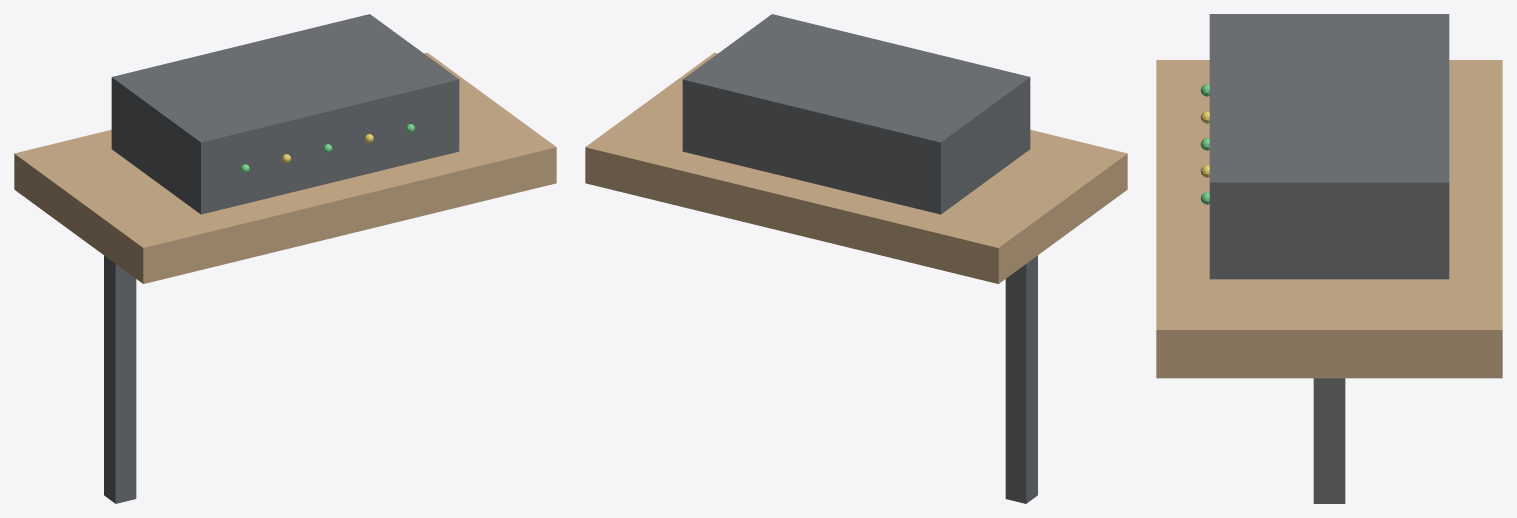
File: server_bench_02.glb
3 renders of one model, left to right at view 1: azimuth 30°, elevation 25°; view 2: azimuth 150°, elevation 25°; view 3: azimuth 270°, elevation 25°, orthographic. The views are drawn at different scales.
Parts seen in each view (by area): view 1: server, bench, leg-0.48; view 2: server, bench, leg-0.48; view 3: server, bench, leg-0.48.
Part boxes in pixels (x1=…): server: x1=111, y1=14, x2=459, y2=214; bench: x1=14, y1=52, x2=556, y2=283; leg-0.48: x1=104, y1=255, x2=136, y2=503; server: x1=682, y1=14, x2=1030, y2=214; bench: x1=585, y1=52, x2=1127, y2=283; leg-0.48: x1=1005, y1=255, x2=1037, y2=503; server: x1=1209, y1=14, x2=1449, y2=279; bench: x1=1156, y1=60, x2=1502, y2=378; leg-0.48: x1=1313, y1=378, x2=1345, y2=503.
Size of the model in its own units: 1.2 by 1.05 by 0.65.
